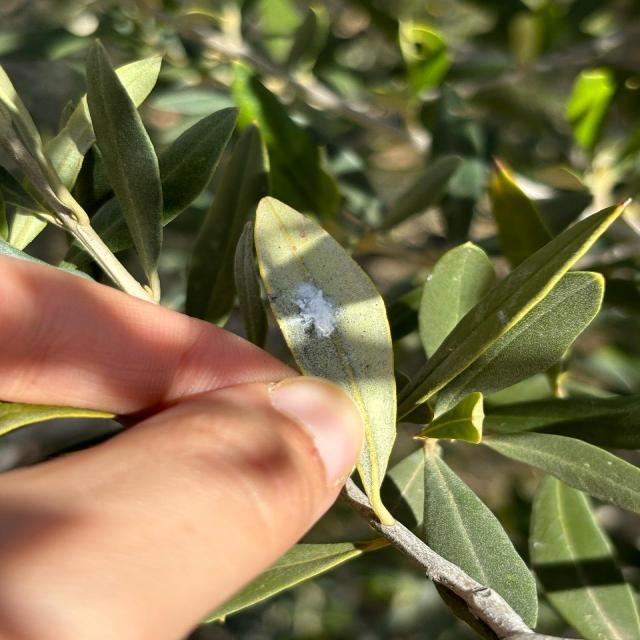Psyllid: (268, 280, 384, 358)
